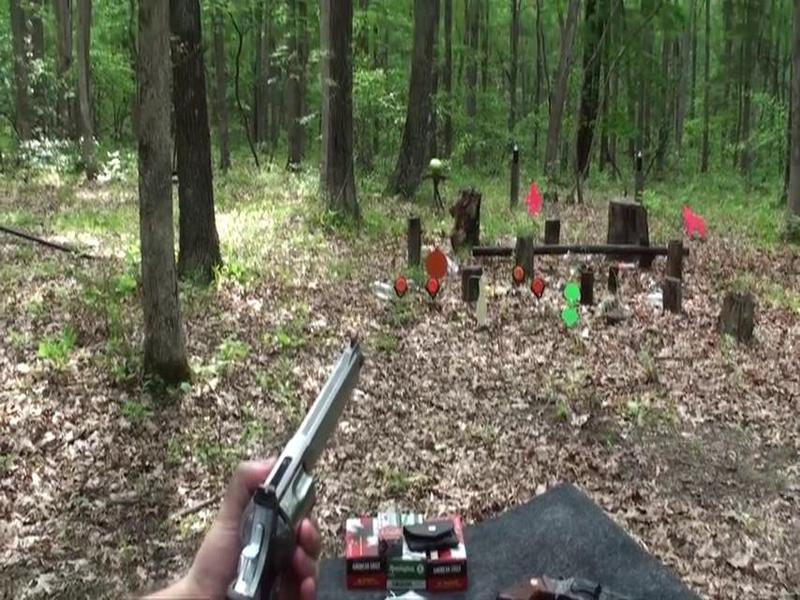Revolver: (218, 316, 359, 600)
